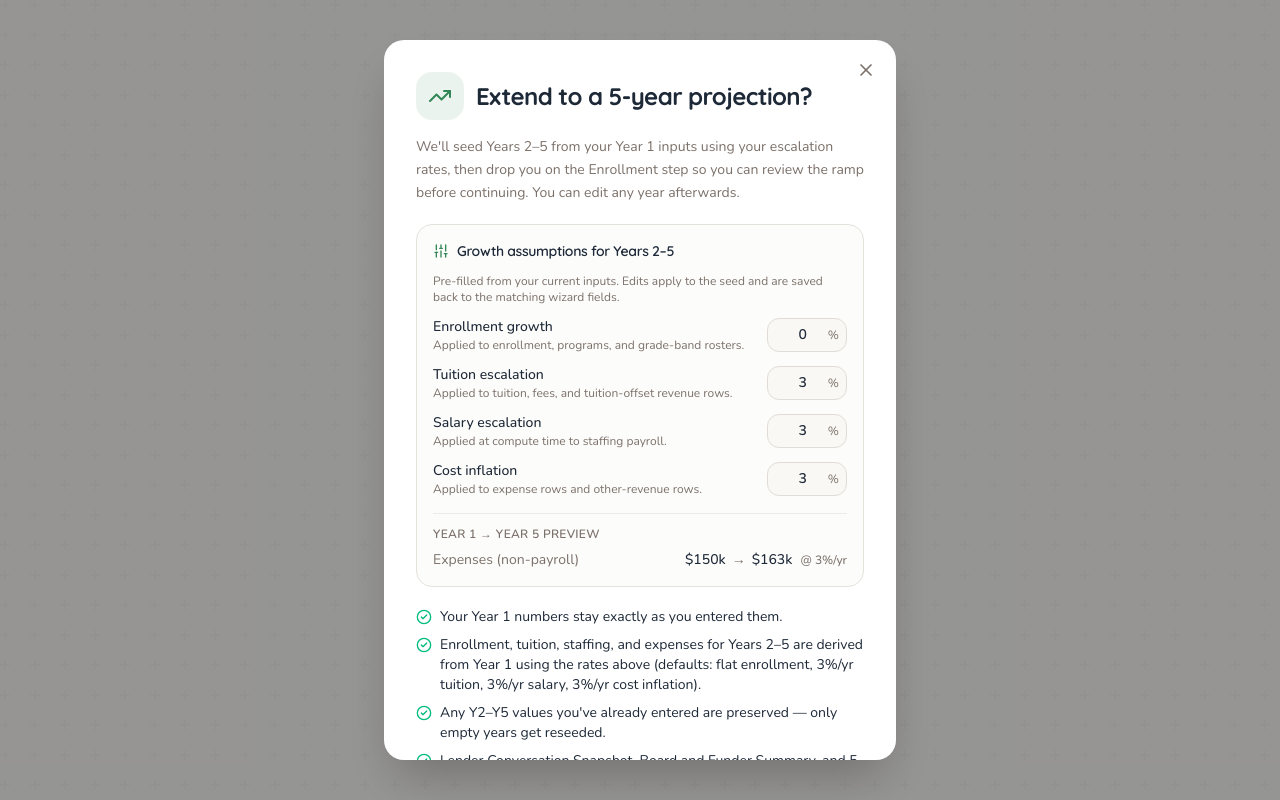
Test: ExtendToFiveYearModal › renders non-payroll expense preview using per-row rates plus modal default
Expected: the text with test id "extend-preview-nonpayroll-y1" reads "$150k", [685,550,726,569]
Expected: the text with test id "extend-preview-nonpayroll-y5" reads "$163k", [752,550,792,569]
# Editing cost inflation only affects the unpinned row
Replace the text in the number field with test id "extend-rate-cost" with "10" at coordinates (807, 479), box [767,462,847,496]
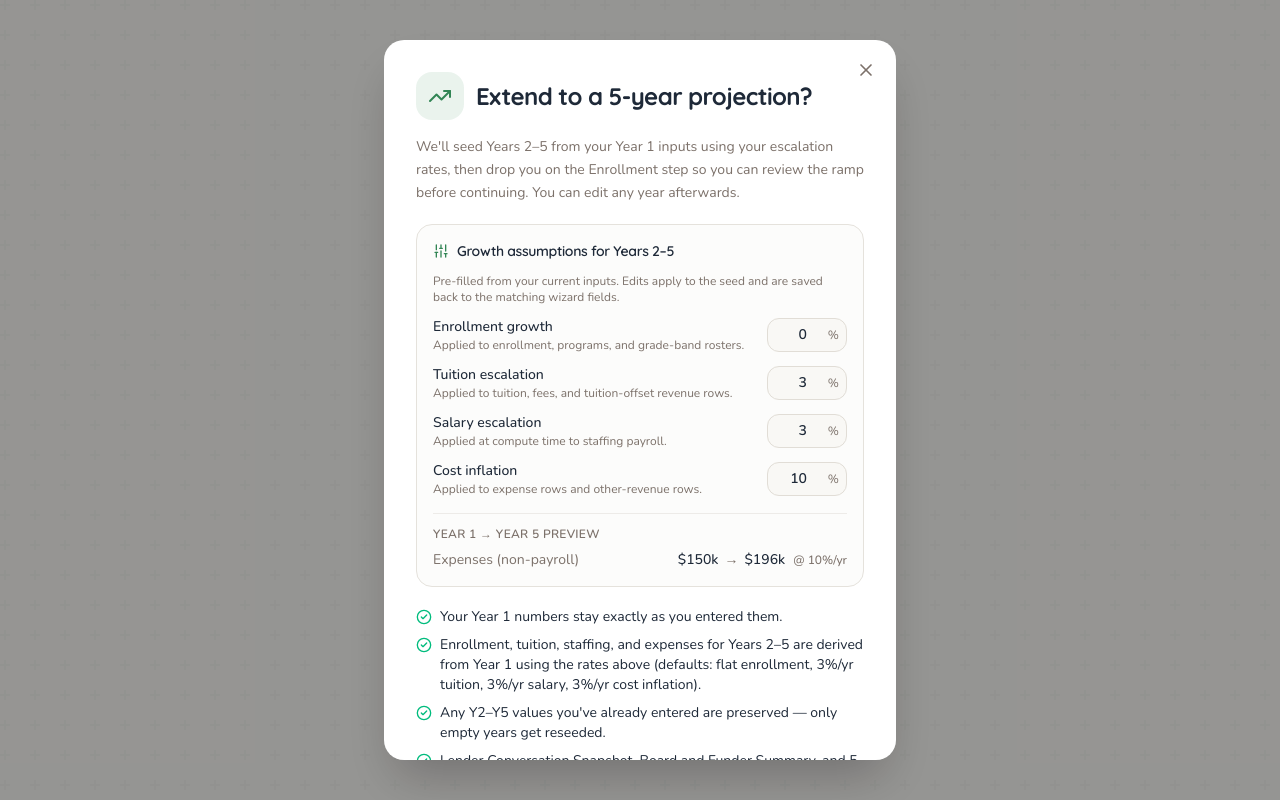
Expected: the text with test id "extend-preview-nonpayroll-y5" reads "$196k", [744,550,785,569]
